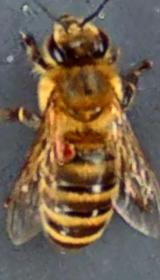varroa_mite: (38, 128, 88, 174)
